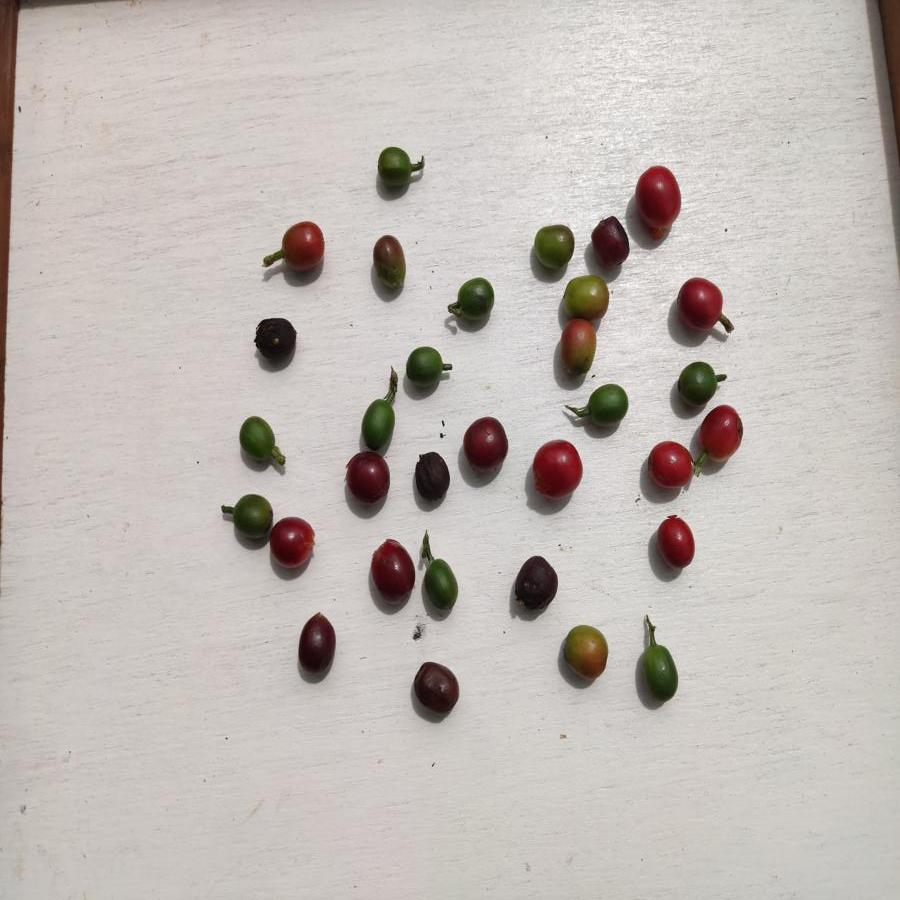Inmaduro: (637, 643, 678, 704), (584, 381, 631, 430), (356, 395, 398, 448), (236, 411, 278, 463), (424, 558, 460, 615), (232, 493, 272, 543), (373, 144, 415, 191), (455, 276, 498, 321), (676, 360, 717, 407), (402, 346, 444, 387)
Maduro: (635, 163, 684, 234), (531, 438, 586, 496), (673, 277, 726, 331), (697, 404, 746, 462), (645, 439, 697, 492), (278, 218, 326, 274), (269, 516, 318, 568), (655, 515, 696, 568)
Pinton: (558, 623, 611, 677), (366, 234, 414, 290), (555, 320, 599, 376), (559, 278, 609, 320), (533, 226, 579, 267)
Sobremaduro: (371, 538, 421, 606), (459, 416, 509, 476), (413, 661, 467, 712), (343, 449, 393, 504), (250, 315, 298, 368), (517, 555, 562, 611), (298, 612, 337, 676), (589, 215, 630, 272), (413, 448, 451, 498)
